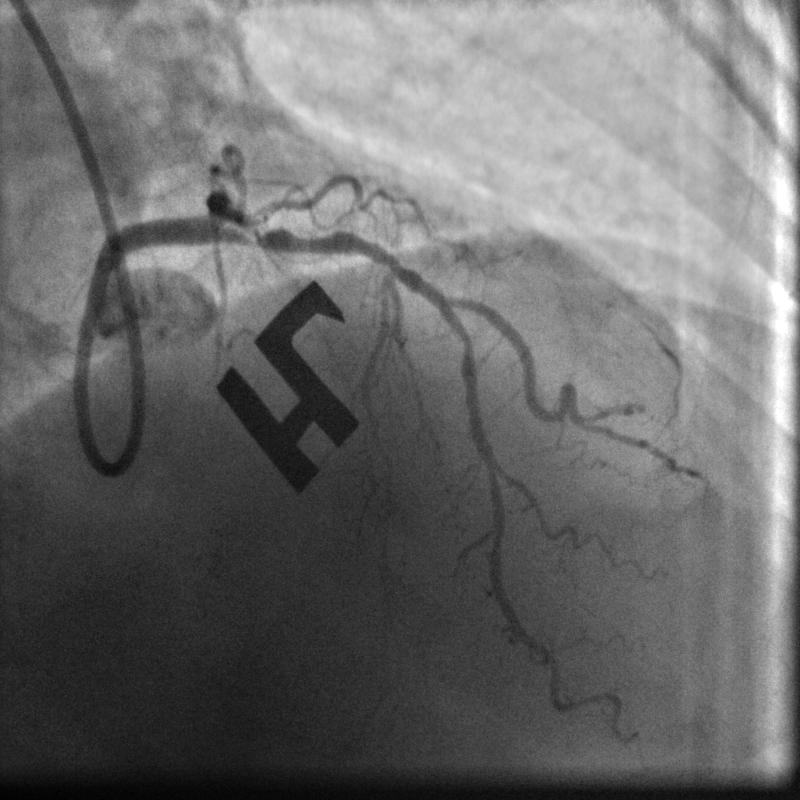Stenosis: (241, 218, 350, 251)
